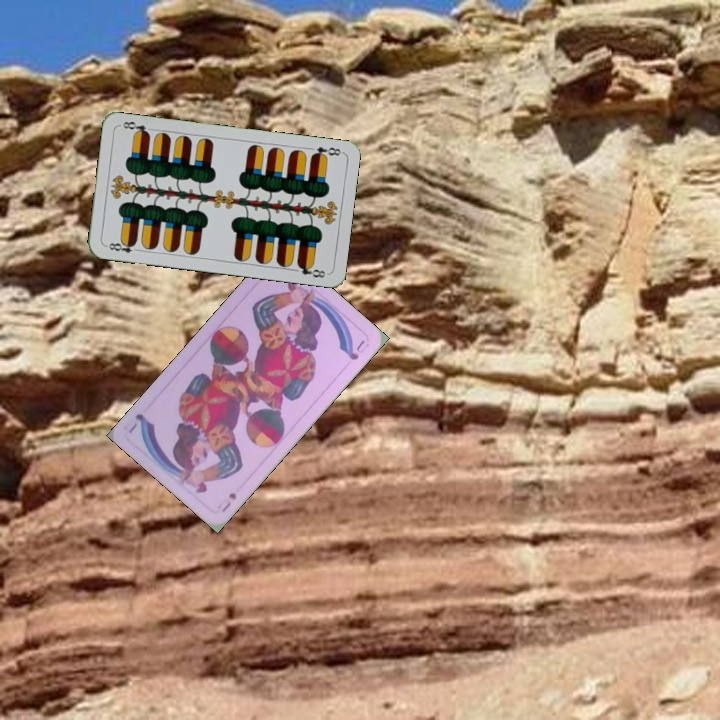E8: (102, 237, 142, 255), (307, 143, 344, 161)
SU: (218, 488, 239, 514)
